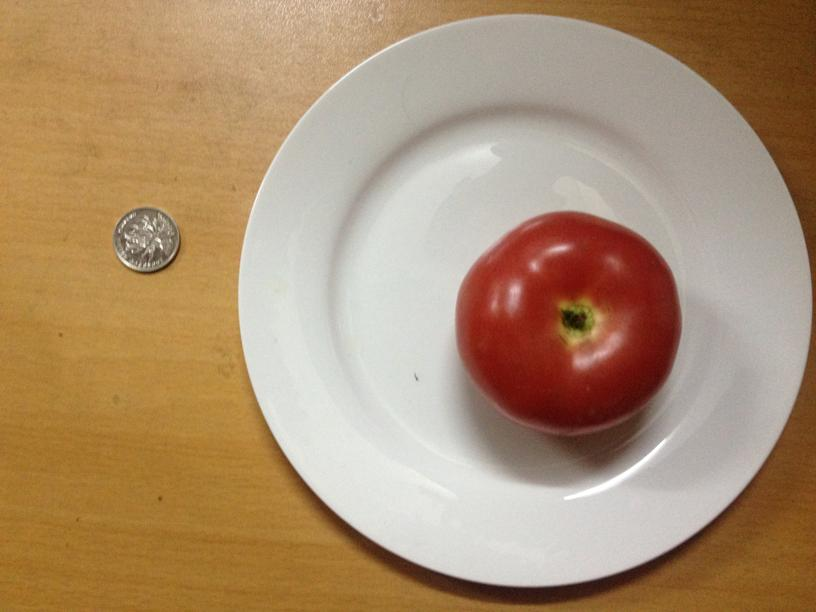coin: (109, 207, 180, 273)
tomato: (454, 211, 682, 438)
